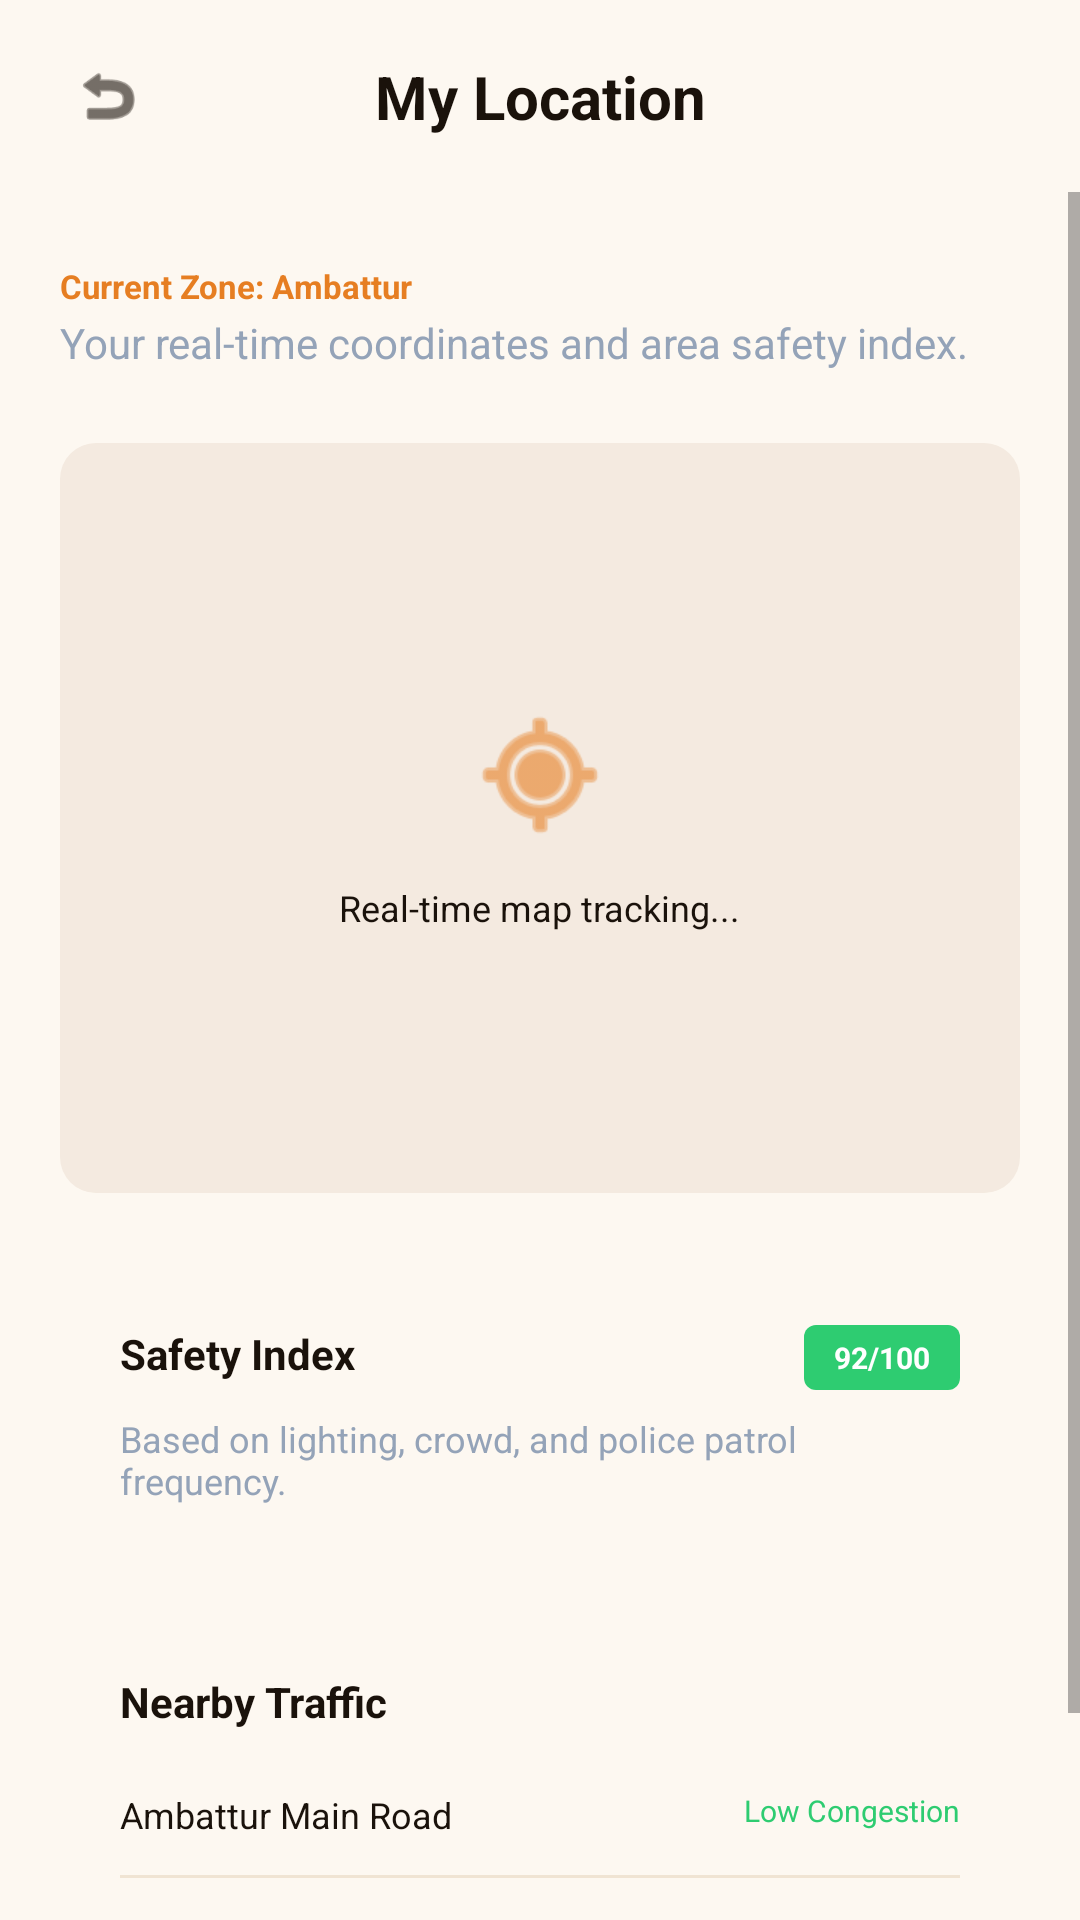

Locate icon controls on the screen. Image size 1080×1920, boxes as [x1=x1, y1=y1, x2=x2, y2=y2].
Location Marker: [x1=482, y1=717, x2=598, y2=833]
Navigate back: [x1=83, y1=73, x2=135, y2=120]
